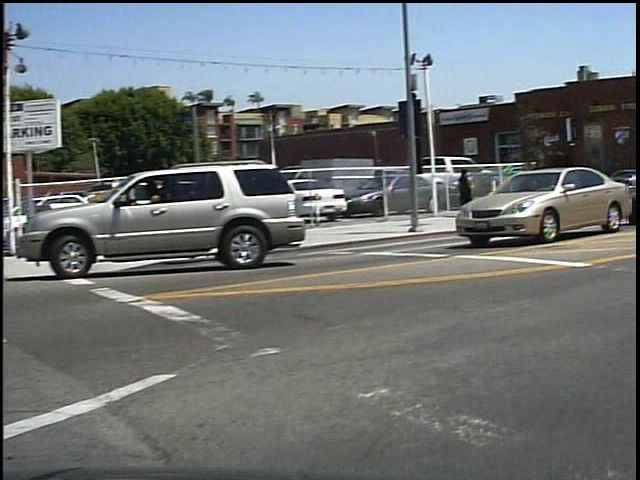person: (462, 163, 488, 221)
